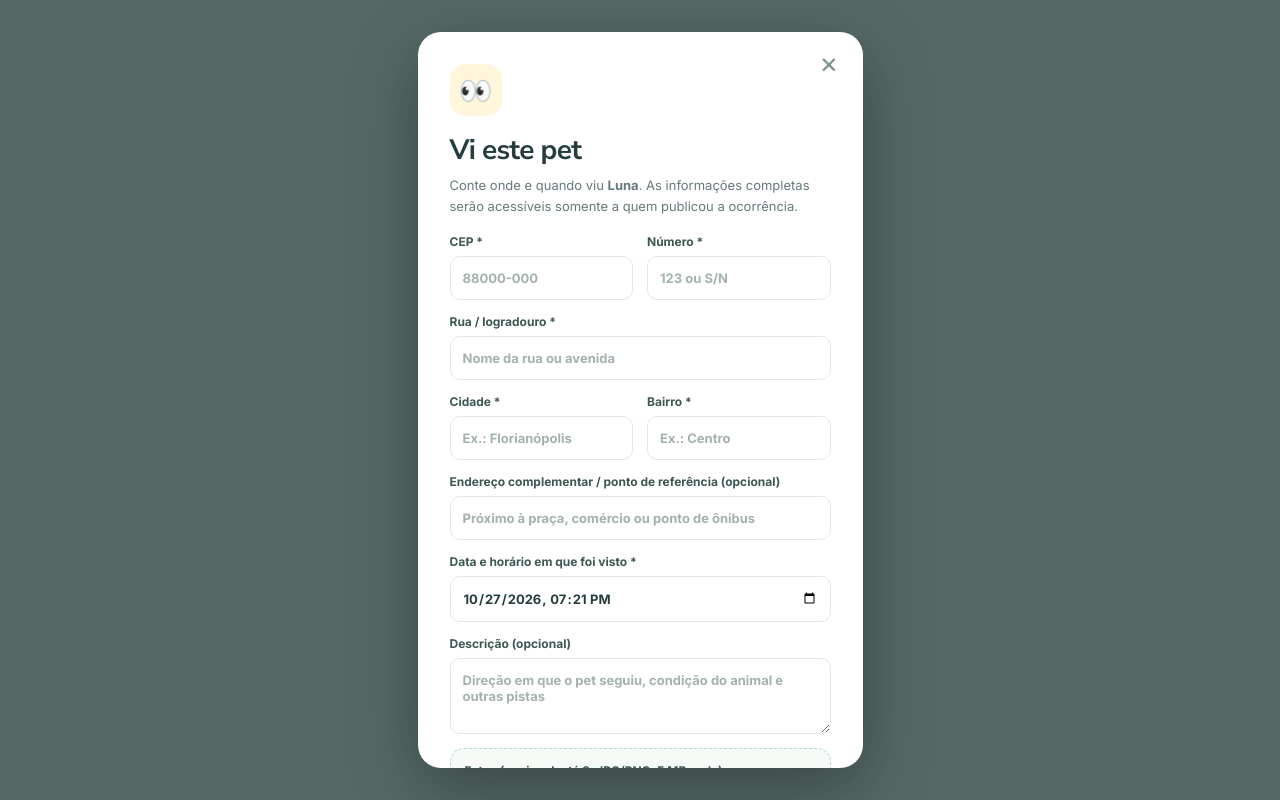
Test case: Autopreenchimento ViaCEP em avistamentos › descarta resultado de CEP anterior quando o usuário altera o código
The image size is (1280, 800).
Step 1. Type "88000000" into the field with placeholder "88000-000" → (541, 278), box [450,256,633,300]
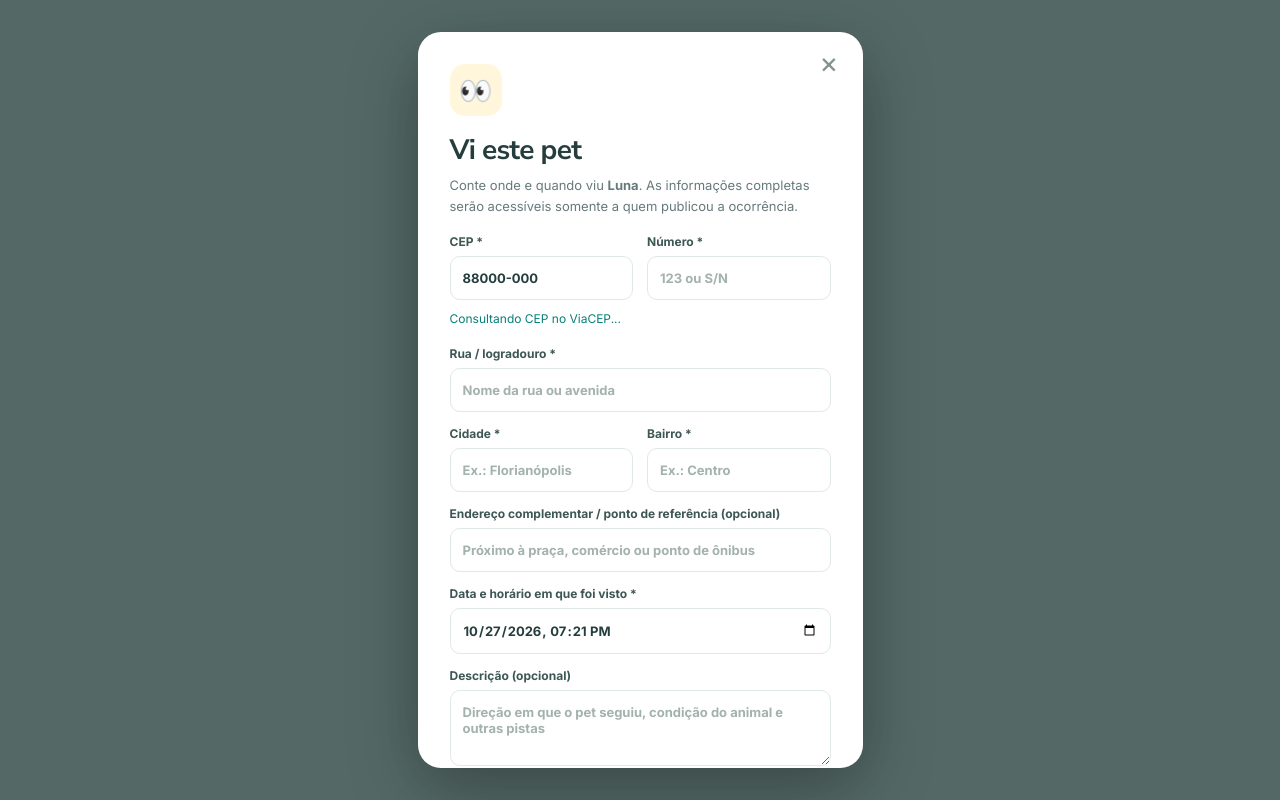
Step 2. Type "01001000" into the field with placeholder "88000-000" → (541, 278), box [450,256,633,300]
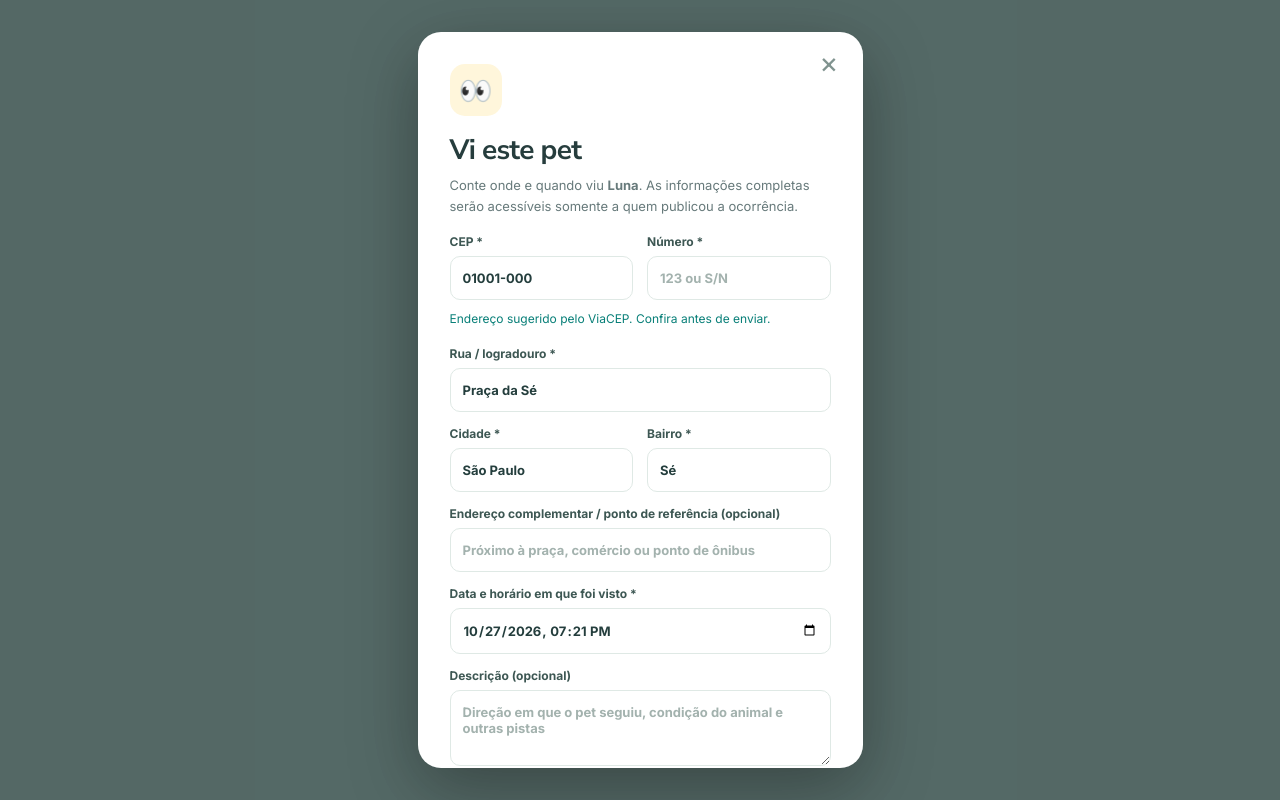
expect the field with placeholder "Ex.: Florianópolis" holds "São Paulo": met, box [450,448,633,492]
expect the field with placeholder "Nome da rua ou avenida" holds "Praça da Sé": met, box [450,368,830,412]
